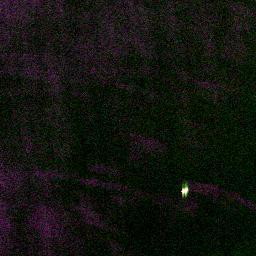Ship: (178, 181, 190, 200)
